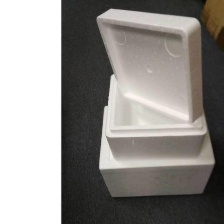foam_box: (92, 4, 206, 128), (95, 101, 218, 200), (102, 67, 210, 163)
